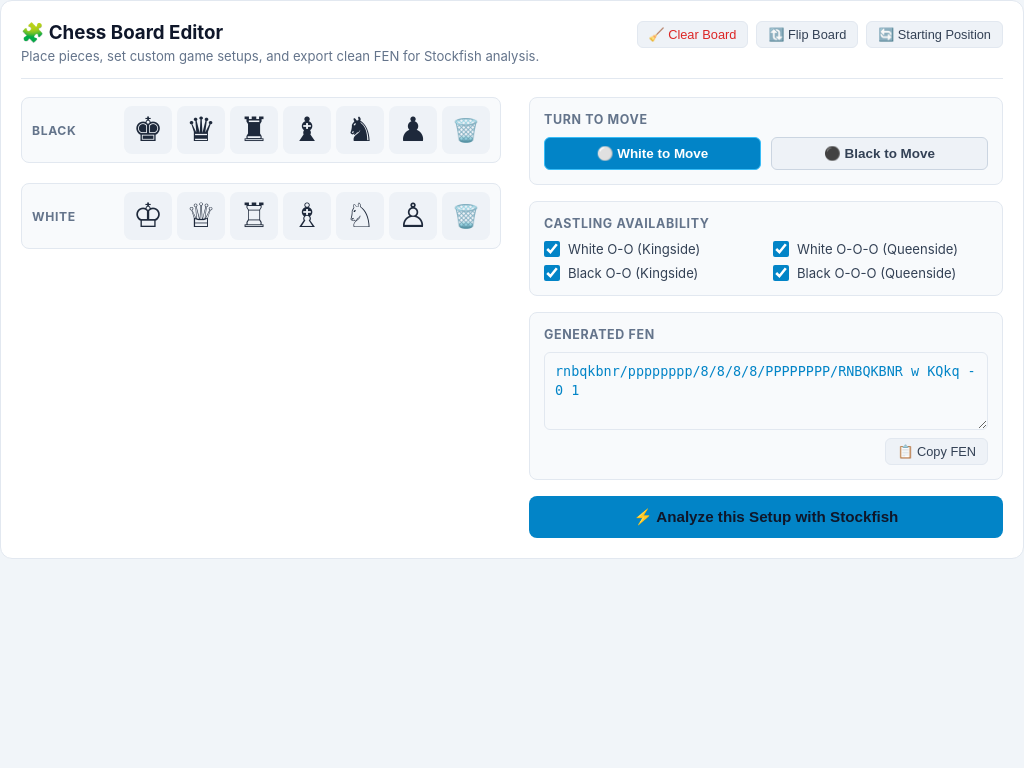
Test: BoardEditor board buttons › clears the board
Click the button "🧹 Clear Board" at (692, 34), box left=637, top=21, right=748, bottom=48
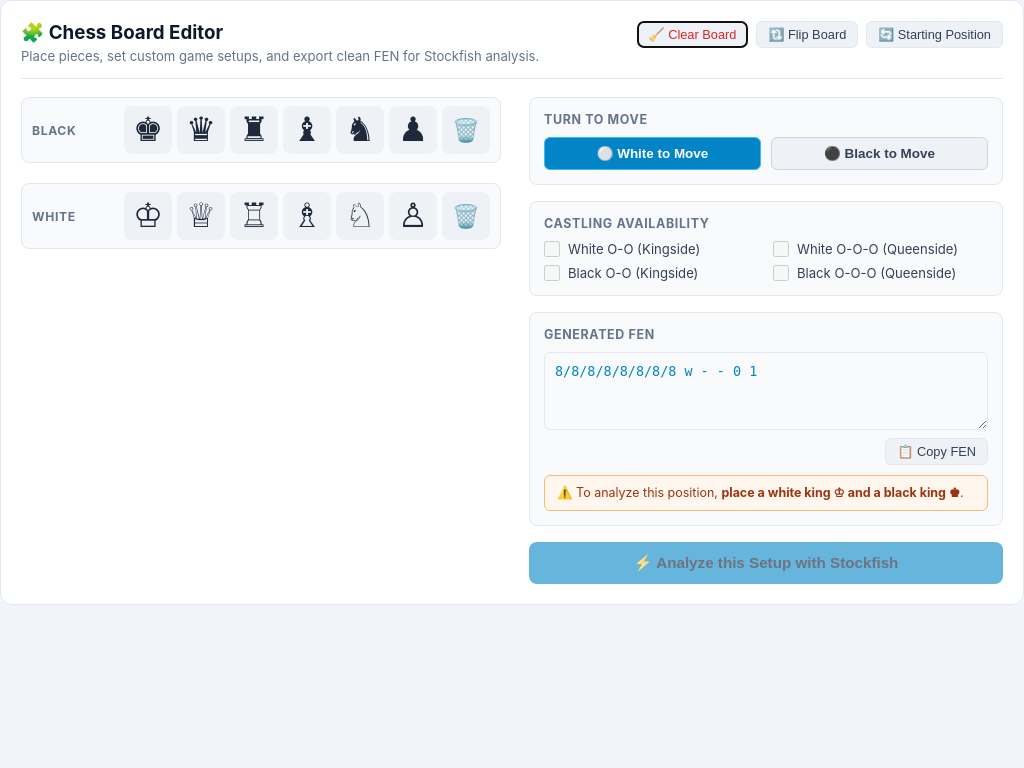
Check: the text box holds "8/8/8/8/8/8/8/8 w - - 0 1", box left=544, top=352, right=988, bottom=430
